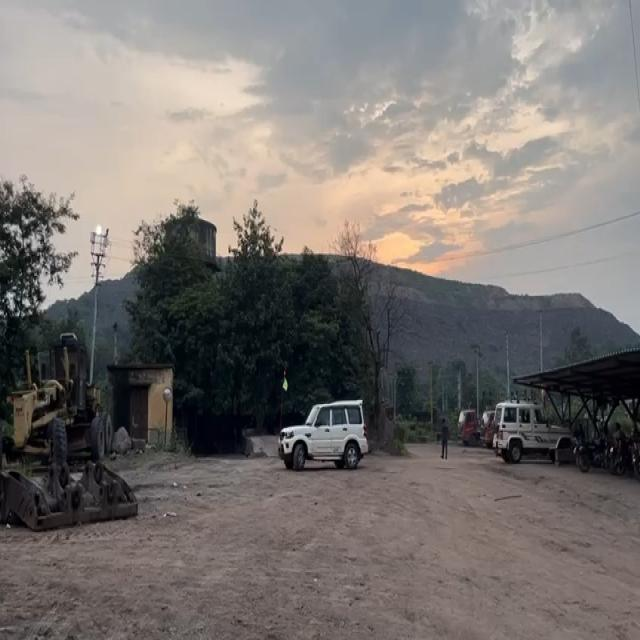light_vehicle: (278, 398, 368, 469), (494, 394, 568, 466)
